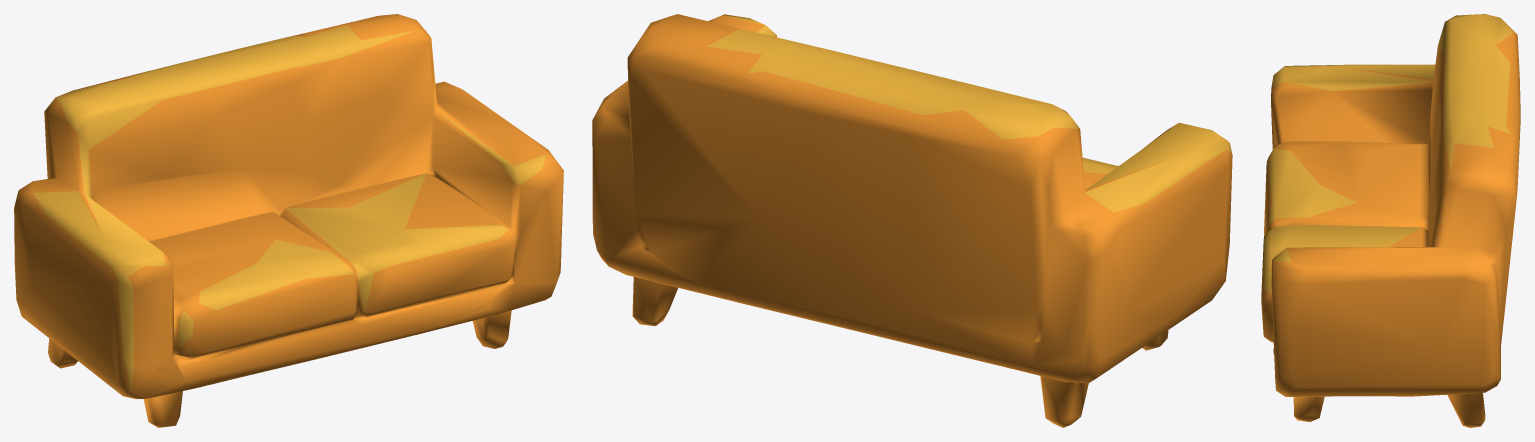
File: SM_prop_sofa_2seat.fbx
3 views of the same model, side by side, from view 1: azimuth 30°, elevation 25°; view 2: azimuth 150°, elevation 25°; view 3: azimuth 270°, elevation 25° (orthographic). The views are drawn at different scales.
Parts seen in each view (by area): view 1: SM_prop_sofa_2seat; view 2: SM_prop_sofa_2seat; view 3: SM_prop_sofa_2seat.
Boxes of the visible parts, <box> form: SM_prop_sofa_2seat: <box>14,14,563,427</box>; SM_prop_sofa_2seat: <box>592,14,1232,427</box>; SM_prop_sofa_2seat: <box>1261,14,1520,427</box>.
Bounding box in the file's own units: 134 × 75 × 70.24.
1 material, 1 textured.
